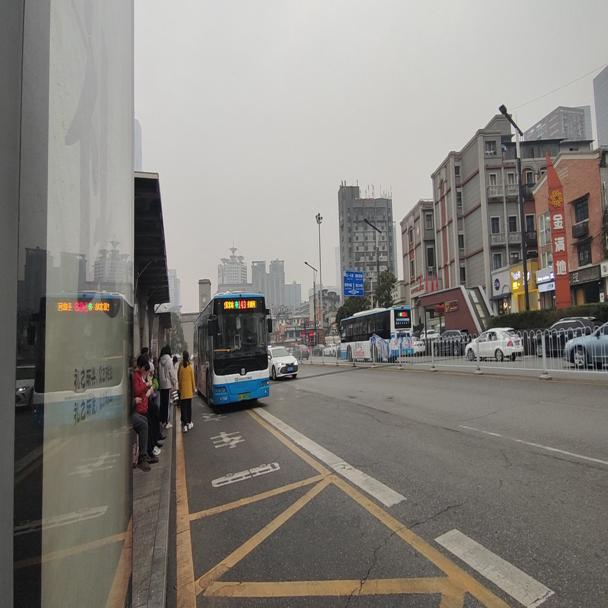bus: (191, 274, 273, 406), (335, 302, 413, 364)
screen: (235, 297, 248, 310)
